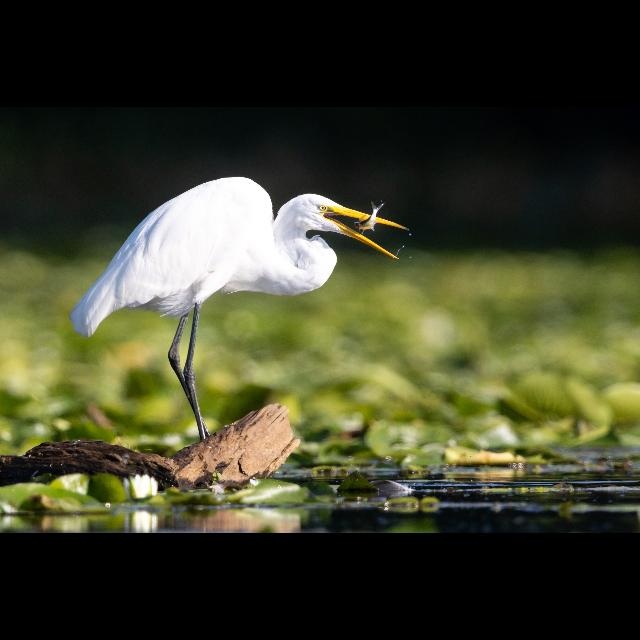egret: (72, 176, 410, 424)
